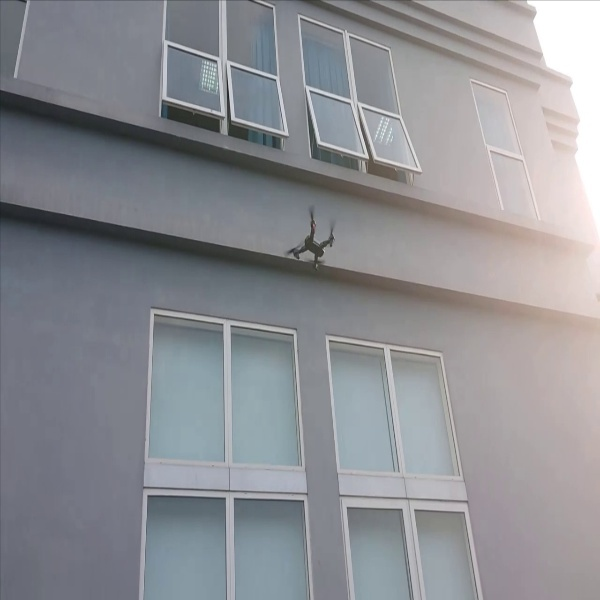drone: (280, 202, 340, 276)
